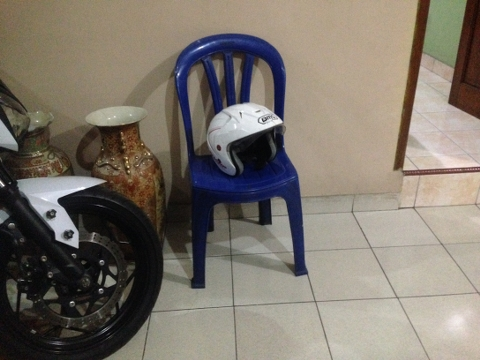kursi: (175, 34, 308, 288)
